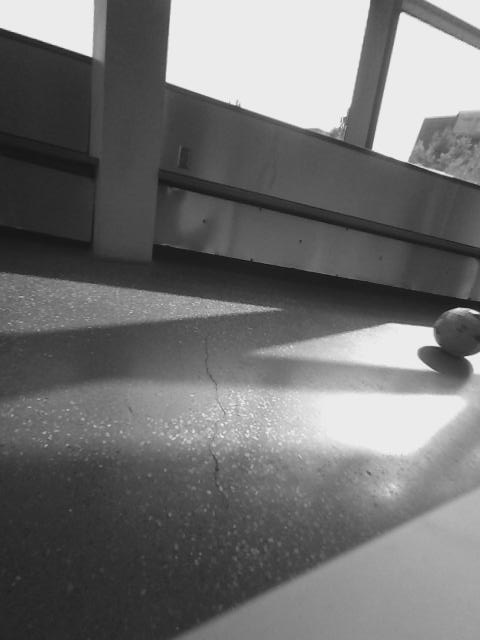ball: (429, 305, 480, 356)
